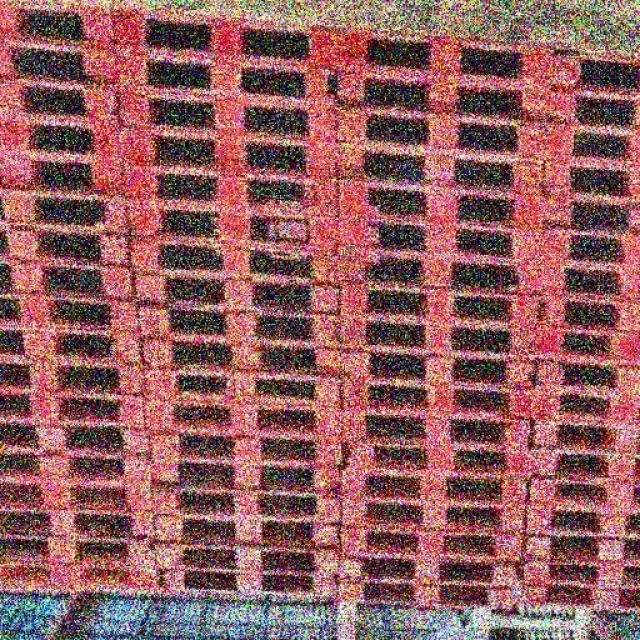non-igps: (104, 4, 348, 76), (328, 22, 564, 90), (105, 82, 345, 148), (327, 54, 559, 122), (107, 45, 345, 110), (110, 122, 344, 186), (326, 104, 554, 166), (331, 175, 555, 238), (122, 228, 346, 288), (115, 162, 346, 220), (324, 142, 552, 200), (120, 198, 344, 256), (334, 245, 552, 301), (330, 278, 548, 333), (330, 212, 551, 264), (124, 266, 347, 316), (134, 331, 347, 382), (335, 313, 546, 364), (131, 300, 346, 350), (132, 394, 348, 443), (332, 348, 544, 395), (332, 374, 536, 421), (132, 368, 346, 411), (142, 428, 346, 471), (0, 147, 134, 210), (145, 483, 350, 524), (0, 256, 143, 314), (144, 512, 350, 552), (333, 440, 537, 480), (333, 466, 535, 506), (145, 456, 346, 496), (331, 498, 532, 538), (0, 224, 138, 282), (0, 288, 148, 342), (334, 413, 537, 452), (0, 185, 136, 242), (0, 324, 149, 376), (0, 559, 168, 605), (146, 539, 347, 576), (334, 526, 529, 564), (152, 570, 344, 608), (0, 118, 134, 172), (330, 579, 529, 615), (0, 418, 158, 463), (0, 38, 124, 94), (0, 0, 120, 57), (0, 82, 128, 134), (0, 536, 166, 574), (0, 391, 153, 432), (0, 359, 151, 399), (524, 318, 640, 370), (0, 453, 161, 490), (0, 509, 165, 544), (539, 38, 640, 94), (0, 481, 160, 516), (537, 79, 640, 130), (519, 529, 640, 572), (532, 122, 640, 170), (525, 354, 640, 399), (520, 443, 640, 486), (333, 556, 531, 582), (517, 413, 640, 454), (516, 580, 640, 619), (535, 152, 640, 198), (525, 296, 640, 338), (520, 388, 640, 428), (531, 225, 640, 268), (515, 558, 640, 594), (534, 194, 640, 236), (530, 262, 640, 302), (521, 480, 640, 516), (520, 503, 640, 538)
